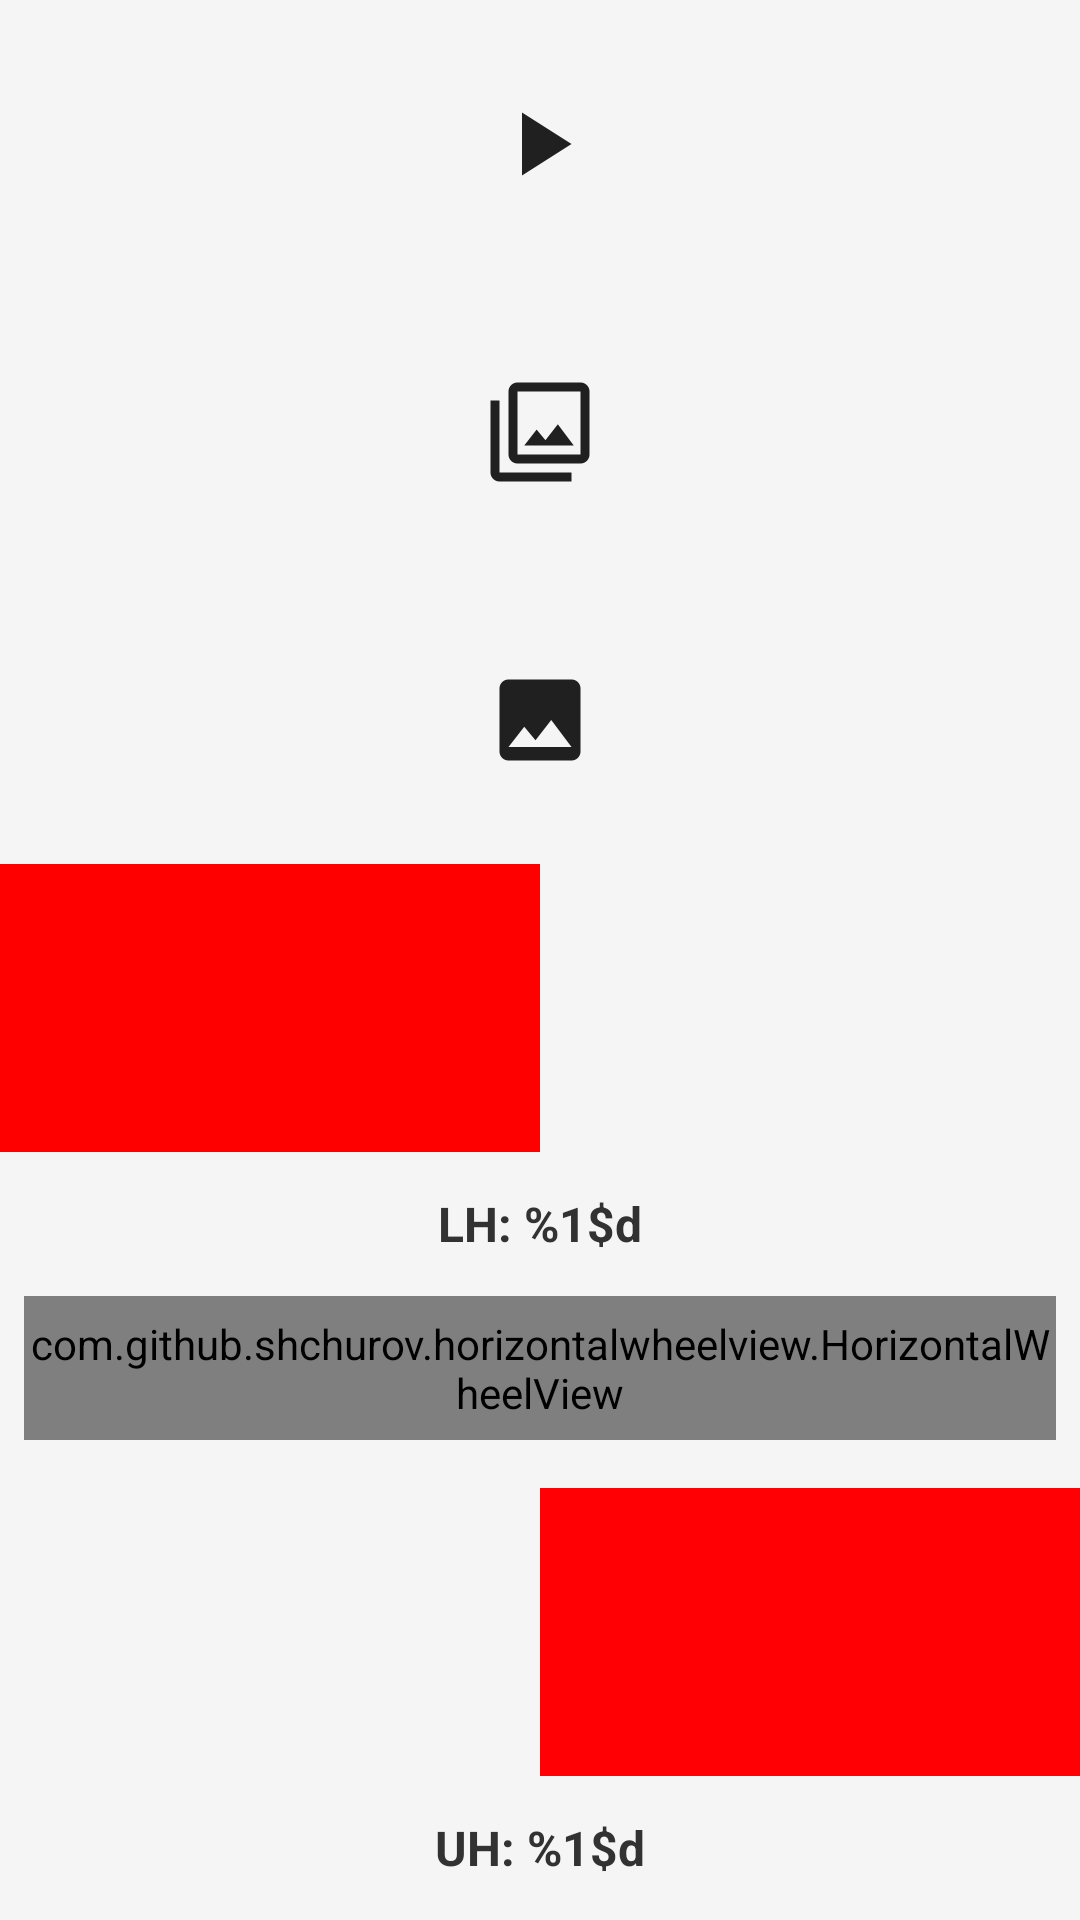

Screen size 1080px x 1920px. Icon name, then its center in pixels as [x,y]:
filter: [540,432]
photo: [540,720]
play arrow: [546,144]
